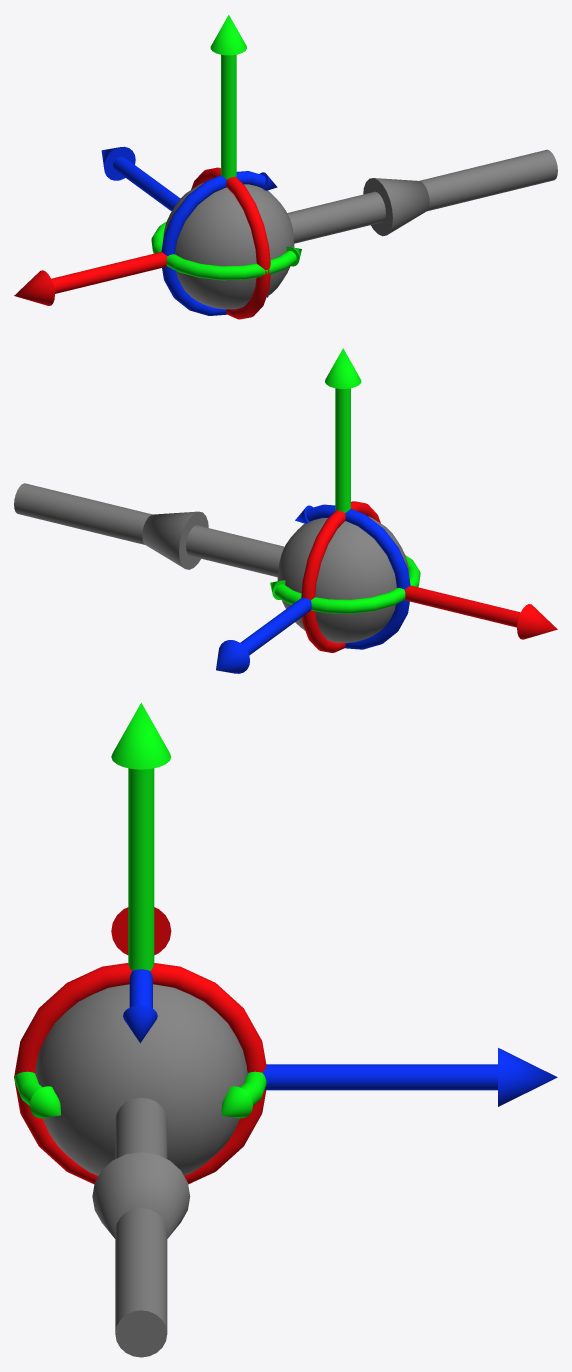
File: jointVisualizer.obj
The picture shows the model from 3 angles, top to bottom: view 1: azimuth 30°, elevation 25°; view 2: azimuth 150°, elevation 25°; view 3: azimuth 270°, elevation 25°; orthographic projection. The views are drawn at different scales.
Parts seen in each view (by area): view 1: joint_visualizer_joint_visualizer; view 2: joint_visualizer_joint_visualizer; view 3: joint_visualizer_joint_visualizer.
Boxes of the visible parts, box(x1,y1,x2,y2) form: joint_visualizer_joint_visualizer: box(14, 15, 557, 319); joint_visualizer_joint_visualizer: box(14, 348, 557, 673); joint_visualizer_joint_visualizer: box(14, 702, 557, 1357).
Bounding box in the file's own units: 8.75 × 4.67 × 4.7.
